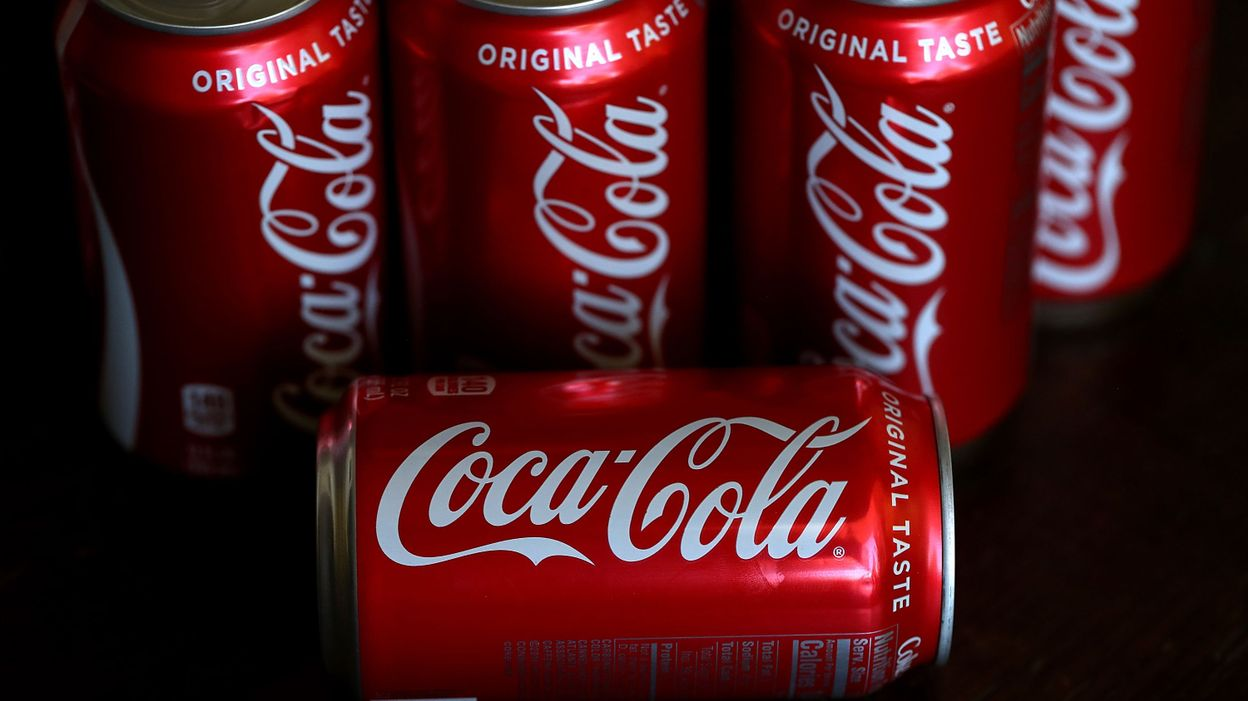can: (306, 366, 972, 701), (43, 5, 393, 461), (735, 7, 1060, 447), (382, 7, 729, 363), (1015, 1, 1216, 336)
